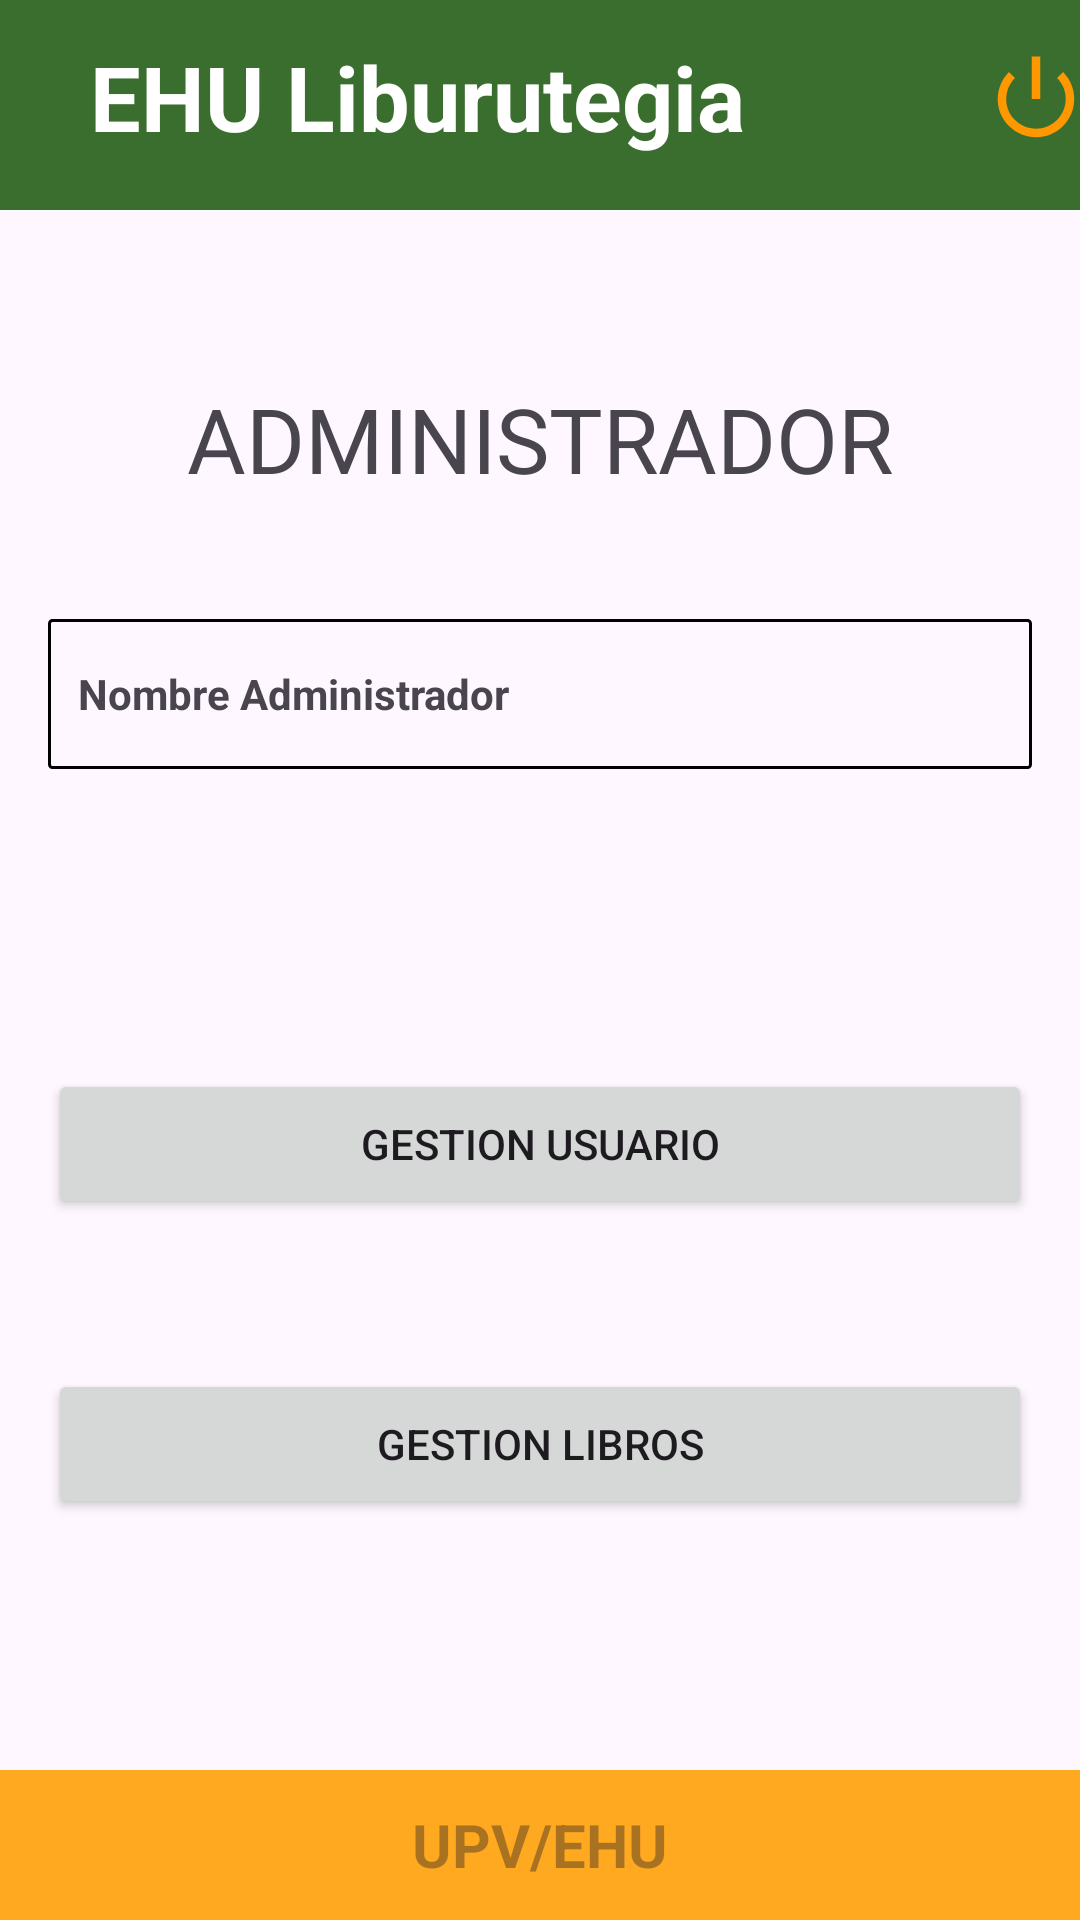

Where to tap for icons on this 1080×1920 app screen, as (x=x, y=y):
lock power off: (x=1036, y=97)
